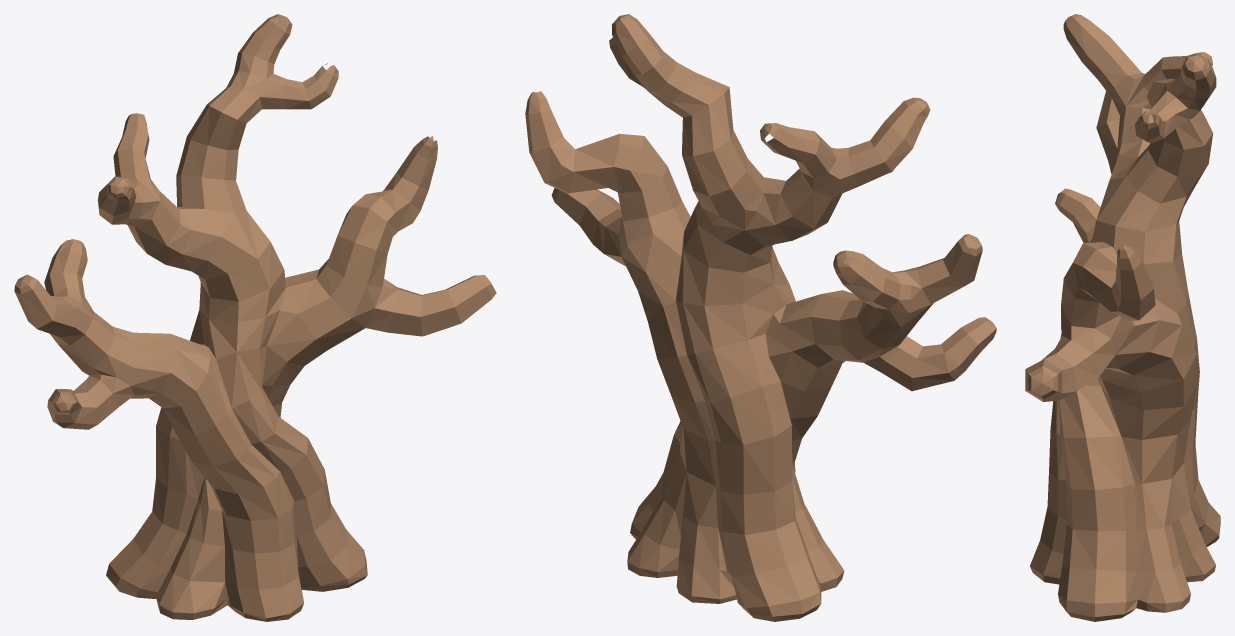
The model's file is nat_deadoak.glb.
3 views of the same model, side by side, from view 1: azimuth 30°, elevation 25°; view 2: azimuth 150°, elevation 25°; view 3: azimuth 270°, elevation 25° (orthographic). The views are drawn at different scales.
Parts seen in each view (by area): view 1: geometry_0; view 2: geometry_0; view 3: geometry_0.
Part boxes in pixels (bbox=[...]): geometry_0: bbox=[14, 14, 496, 621]; geometry_0: bbox=[525, 14, 996, 621]; geometry_0: bbox=[1025, 14, 1220, 621].
Size of the model in its own units: 0.1738 by 0.2012 by 0.0645.
